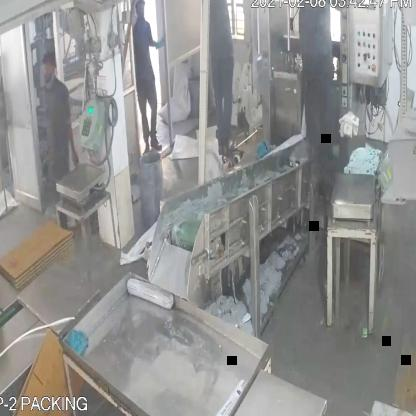glove: (148, 27, 174, 56)
no_glove: (64, 104, 76, 166)
